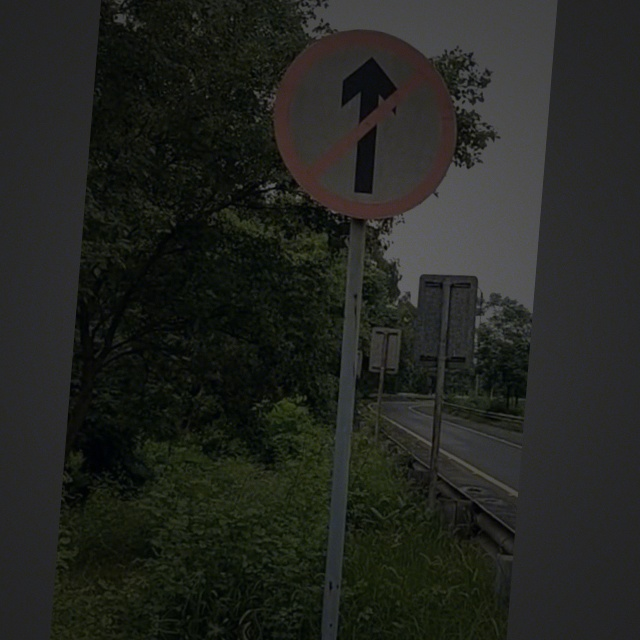No_Entry: (266, 25, 462, 224)
